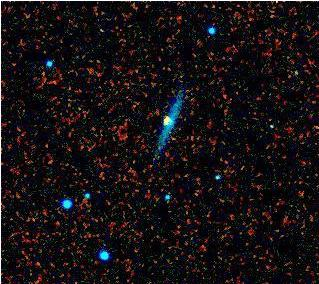star: (150, 104, 180, 134)
